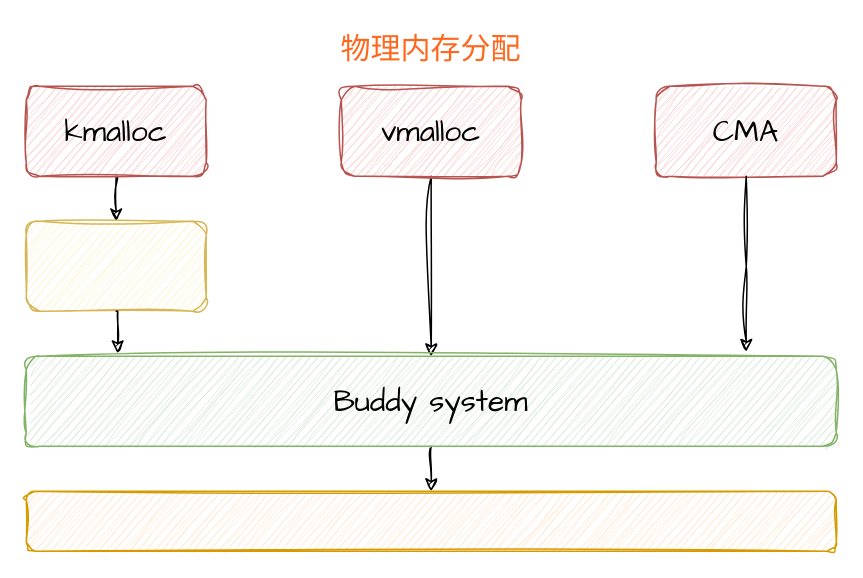
Some shapes in this 863 by 578 pixel diagram are drawn without their labels. Each missing label, with the box of its shape:
slab: (25, 220, 206, 311)
物理内存区划: (25, 490, 836, 551)
